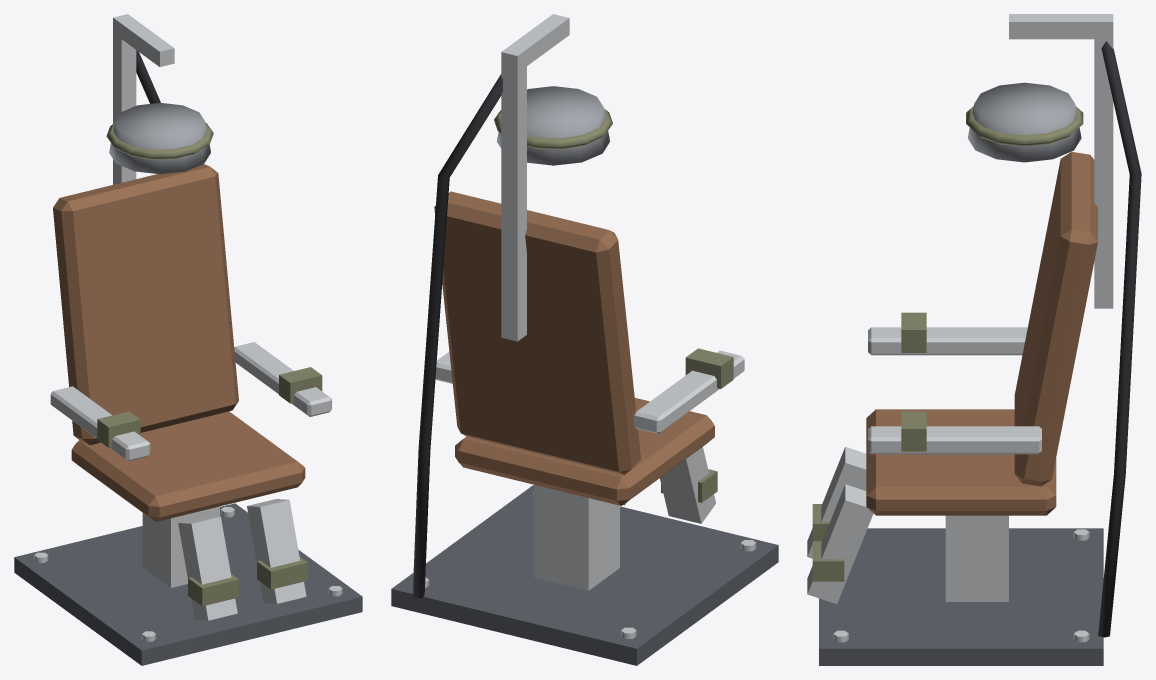
Rendered from restraint_chair.glb.
3 renders of one model, left to right at view 1: azimuth 30°, elevation 25°; view 2: azimuth 150°, elevation 25°; view 3: azimuth 270°, elevation 25°, orthographic. The views are drawn at different scales.
Visible parts, largest first — view 1: restraint_chair; view 2: restraint_chair; view 3: restraint_chair.
Boxes of the visible parts, x1,y1,x2,y2 form: restraint_chair: (14, 14, 362, 665); restraint_chair: (391, 14, 778, 665); restraint_chair: (807, 14, 1141, 665).
Size of the model in its own units: 0.9 by 2.05 by 1.06.
